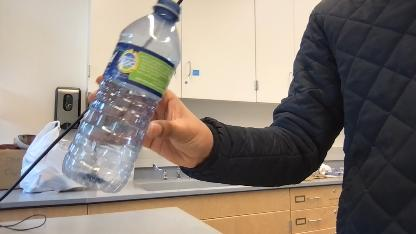Plastic Bottle: (58, 3, 193, 197)
